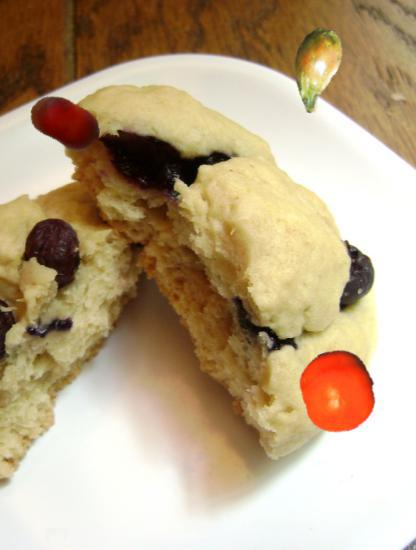Cactus: (271, 27, 358, 114)
Clementine: (297, 350, 380, 433)
Nectarine: (29, 87, 101, 159)
